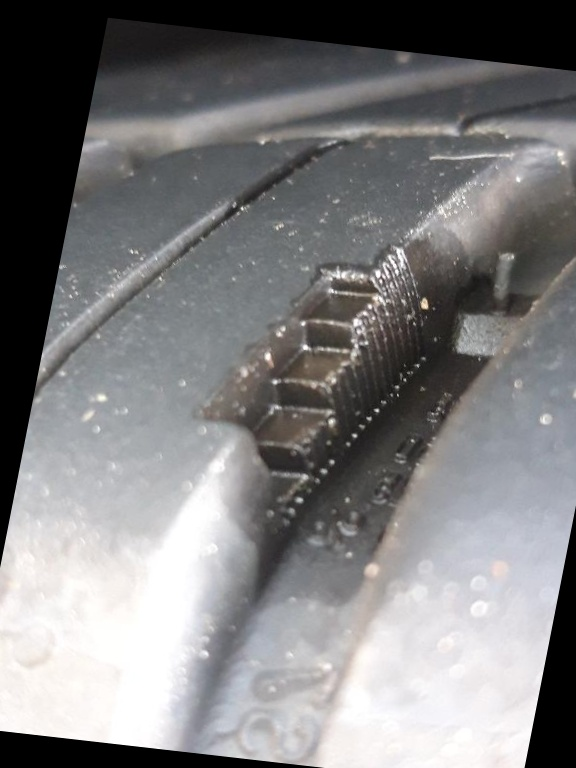temoin:90: (156, 218, 467, 561)
